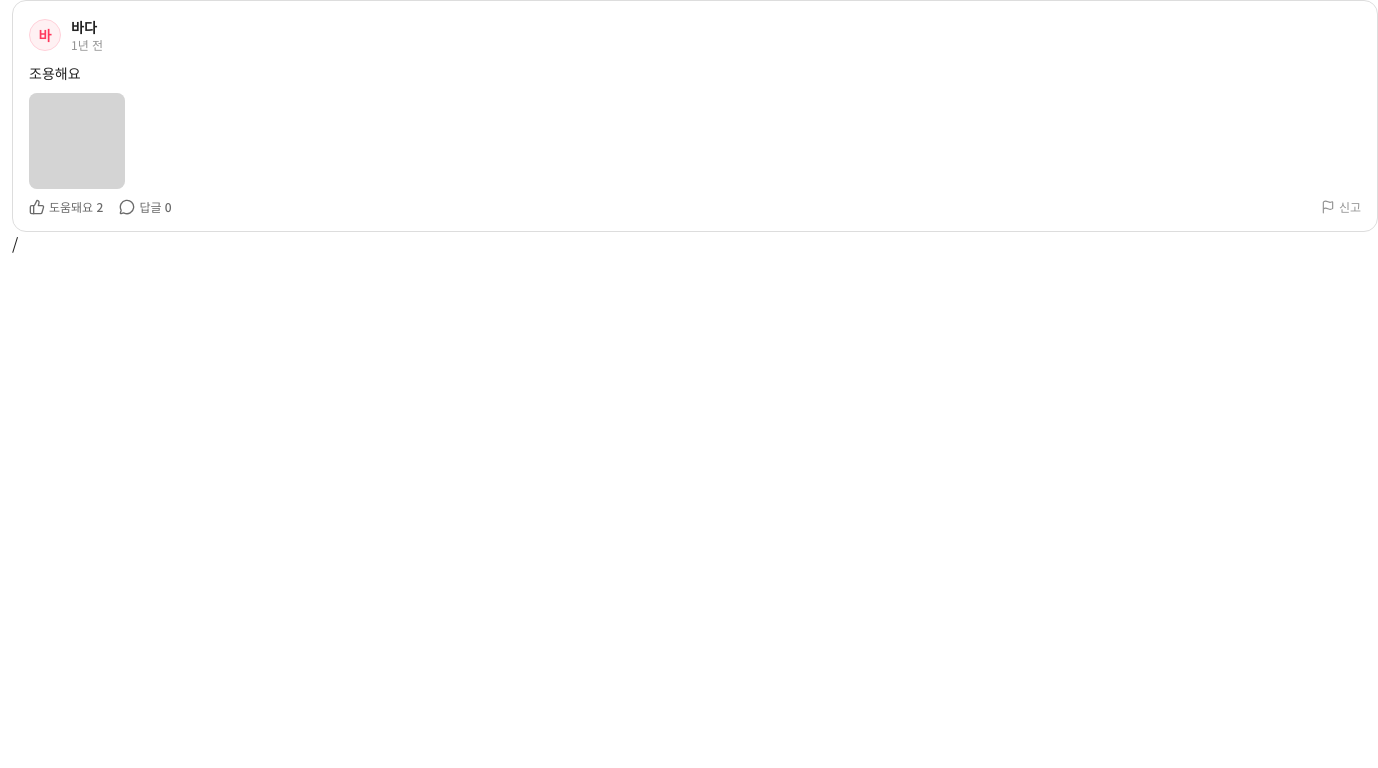
Test: TipCard › 도움돼요 실패하면 되돌린다
The width and height of the screenshot is (1378, 768).
expect the element showing "바 바다 1년 전 조용해요 도움돼요 2 답글 0 신고" is shown: met, box x1=12 y1=0 x2=1377 y2=232
Step 1. Click the button "도움돼요 2" → (66, 207), box x1=29 y1=199 x2=103 y2=215
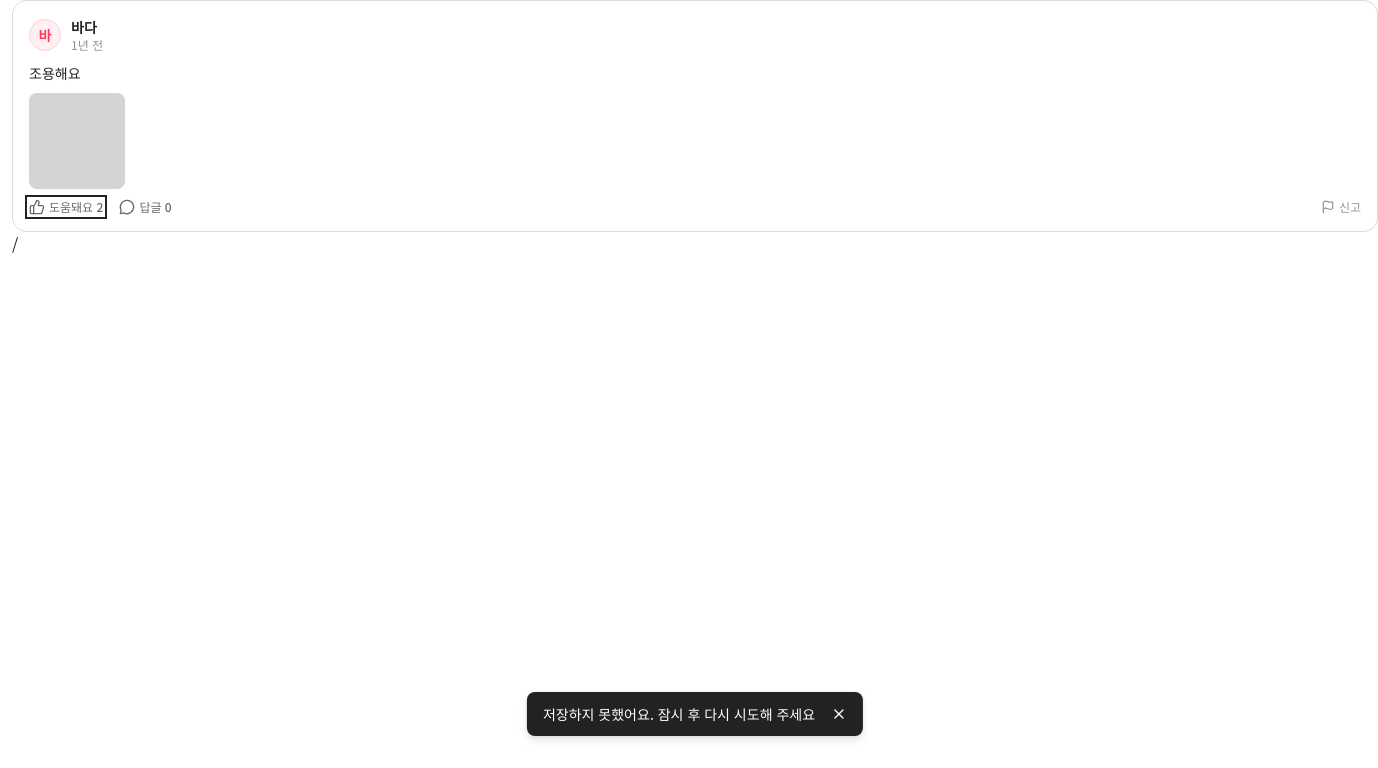
expect the message shows "저장하지 못했어요": met, box x1=543 y1=704 x2=815 y2=724
